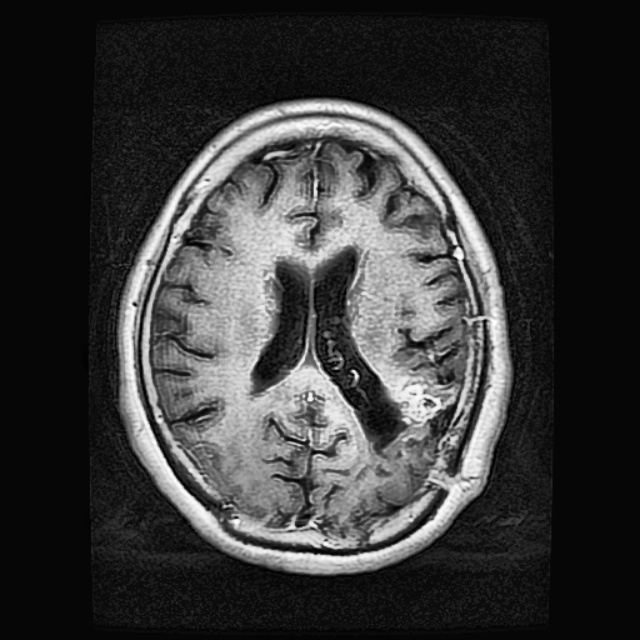Glioma: (328, 355, 445, 454)
